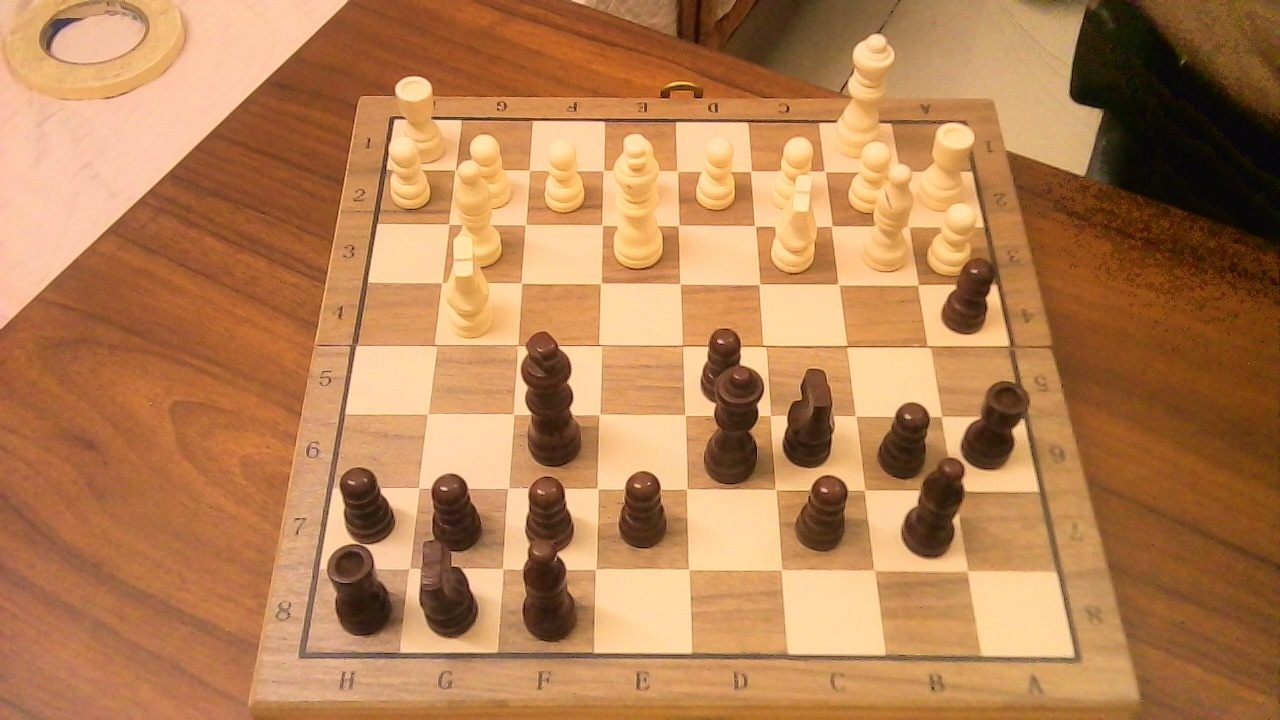B: (855, 154, 923, 278), (448, 149, 513, 271)
K: (606, 123, 675, 275)
N: (763, 163, 830, 278), (440, 256, 502, 342)
P: (840, 136, 907, 218), (923, 193, 986, 278), (458, 126, 518, 213), (763, 128, 822, 215), (382, 121, 437, 212), (535, 129, 591, 217), (688, 127, 744, 215)
Q: (828, 21, 900, 165)
R: (917, 111, 984, 216), (391, 67, 451, 167)
b: (891, 444, 980, 564), (509, 540, 589, 646)
k: (517, 321, 594, 469)
n: (411, 526, 489, 642), (780, 354, 849, 470)
p: (331, 456, 405, 544), (788, 463, 859, 554), (937, 247, 1006, 339), (880, 400, 942, 480), (618, 470, 668, 550), (432, 473, 482, 552), (522, 477, 576, 550), (700, 330, 745, 405)
q: (697, 354, 775, 487)
r: (322, 533, 401, 639), (962, 368, 1038, 472)
